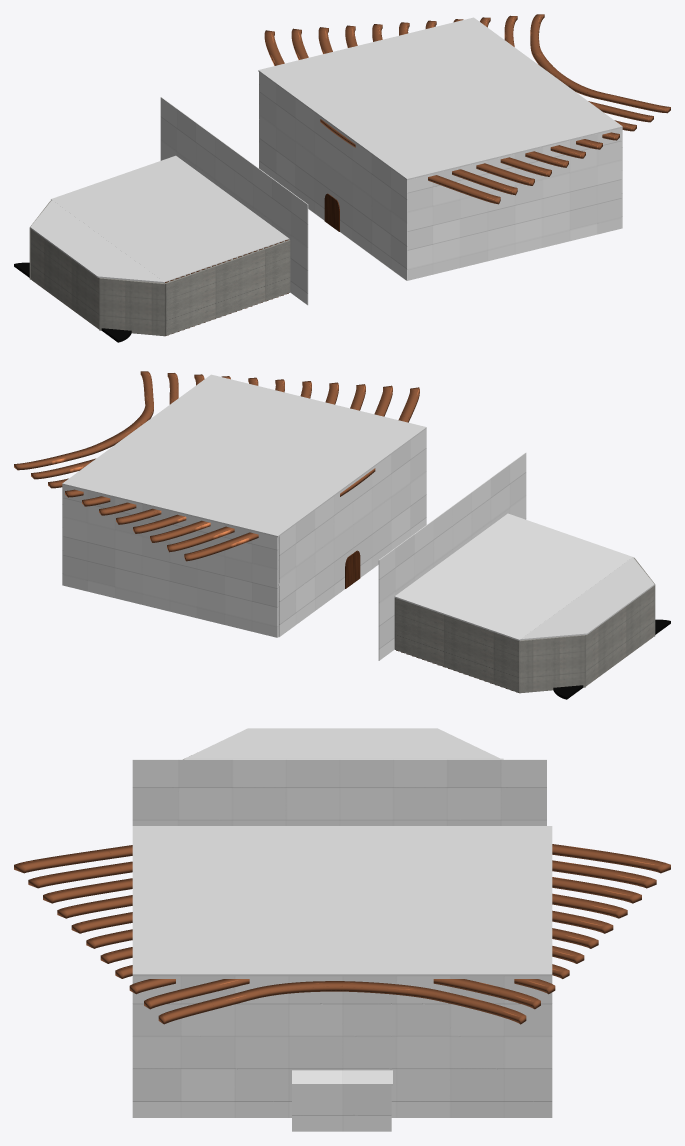
The model's file is vrカンファ3.fbx.
3 views of the same model, one above another, from view 1: azimuth 30°, elevation 25°; view 2: azimuth 150°, elevation 25°; view 3: azimuth 270°, elevation 25° (orthographic). The views are drawn at different scales.
Visible parts, largest first — view 1: ロビーの屋根.001, 横左壁.001, メインの屋根（台形）, 壁.001, 壁.003, BézierCurve, 左壁, メインの屋根（斜め）, 斜めのとこ, 登壇壁; view 2: ロビーの屋根.001, 横左壁.001, メインの屋根（台形）, 壁.001, 壁.003, BézierCurve, 右壁, メインの屋根（斜め）, 斜めのとこ, 登壇壁; view 3: ロビーの屋根.001, 壁.003, 後右壁.001, 後左壁.001, BézierCurve, 後中壁.001, メインの屋根（斜め）, 入口の後ろ壁.001, 入口の屋根.001, メインの屋根（台形）.
Part boxes in pixels (bbox=[...]): ロビーの屋根.001: bbox=[258, 17, 622, 180]; 横左壁.001: bbox=[259, 72, 621, 280]; メインの屋根（台形）: bbox=[51, 155, 289, 283]; 壁.001: bbox=[260, 73, 407, 280]; 壁.003: bbox=[160, 97, 308, 305]; BézierCurve: bbox=[264, 14, 670, 204]; 左壁: bbox=[165, 240, 290, 335]; メインの屋根（斜め）: bbox=[30, 200, 163, 283]; 斜めのとこ: bbox=[29, 200, 165, 336]; 登壇壁: bbox=[31, 229, 99, 329]; ロビーの屋根.001: bbox=[62, 374, 426, 537]; 横左壁.001: bbox=[63, 485, 278, 637]; メインの屋根（台形）: bbox=[394, 513, 632, 640]; 壁.001: bbox=[279, 429, 426, 636]; 壁.003: bbox=[378, 452, 526, 660]; BézierCurve: bbox=[14, 371, 419, 561]; 右壁: bbox=[394, 598, 519, 692]; メインの屋根（斜め）: bbox=[520, 557, 654, 640]; 斜めのとこ: bbox=[519, 557, 655, 693]; 登壇壁: bbox=[585, 586, 653, 686]; ロビーの屋根.001: bbox=[132, 826, 552, 976]; 壁.003: bbox=[132, 759, 546, 825]; 後右壁.001: bbox=[391, 976, 552, 1117]; 後左壁.001: bbox=[132, 976, 291, 1117]; BézierCurve: bbox=[14, 844, 670, 1024]; 後中壁.001: bbox=[292, 976, 391, 1070]; メインの屋根（斜め）: bbox=[185, 728, 499, 758]; 入口の後ろ壁.001: bbox=[292, 1086, 391, 1131]; 入口の屋根.001: bbox=[292, 1070, 392, 1085]; メインの屋根（台形）: bbox=[184, 758, 503, 759].
Bounding box in the file's own units: 54.65 × 11.14 × 40.59.
